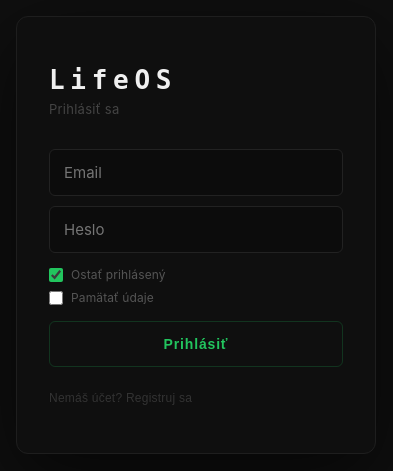
Test: AuthPage › switching to register mode › clicking the register toggle shows the register submit button
Click the button "Nemáš účet? Registruj sa" at (121, 398), box [49,391,192,405]
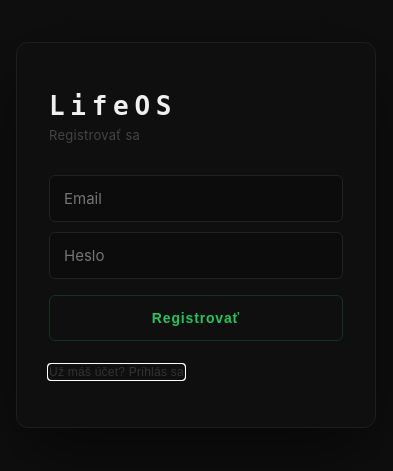
Expected: the button "Registrovať" is shown, [49,295,343,341]
